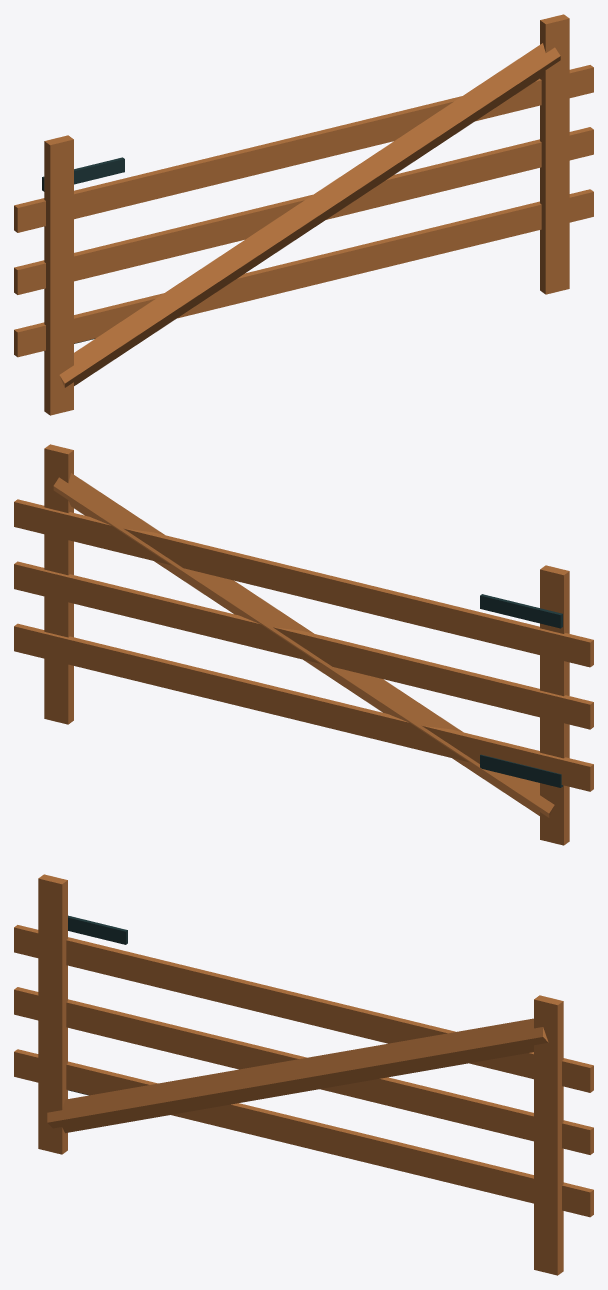
The model's file is wood_gate_leaf.fbx.
3 views of the same model, one above another, from view 1: azimuth 30°, elevation 25°; view 2: azimuth 150°, elevation 25°; view 3: azimuth 330°, elevation 25° (orthographic).
Parts seen in each view (by area): view 1: wood_gate_leaf; view 2: wood_gate_leaf; view 3: wood_gate_leaf.
Boxes of the visible parts, left/top/right/bottom form: wood_gate_leaf: left=14, top=14, right=593, bottom=415; wood_gate_leaf: left=14, top=444, right=593, bottom=845; wood_gate_leaf: left=14, top=874, right=593, bottom=1275.
Size of the model in its own units: 2.9 by 1.3 by 0.1.
